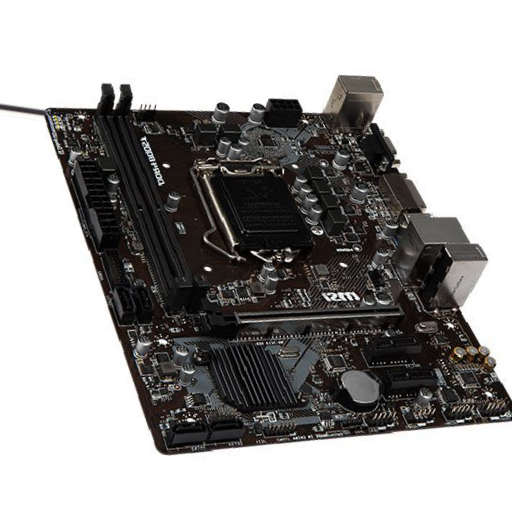CPU: (192, 157, 314, 263)
GPU: (200, 303, 404, 336)
MOTHERBOARD: (41, 108, 512, 455)
RAM: (99, 83, 210, 311)
